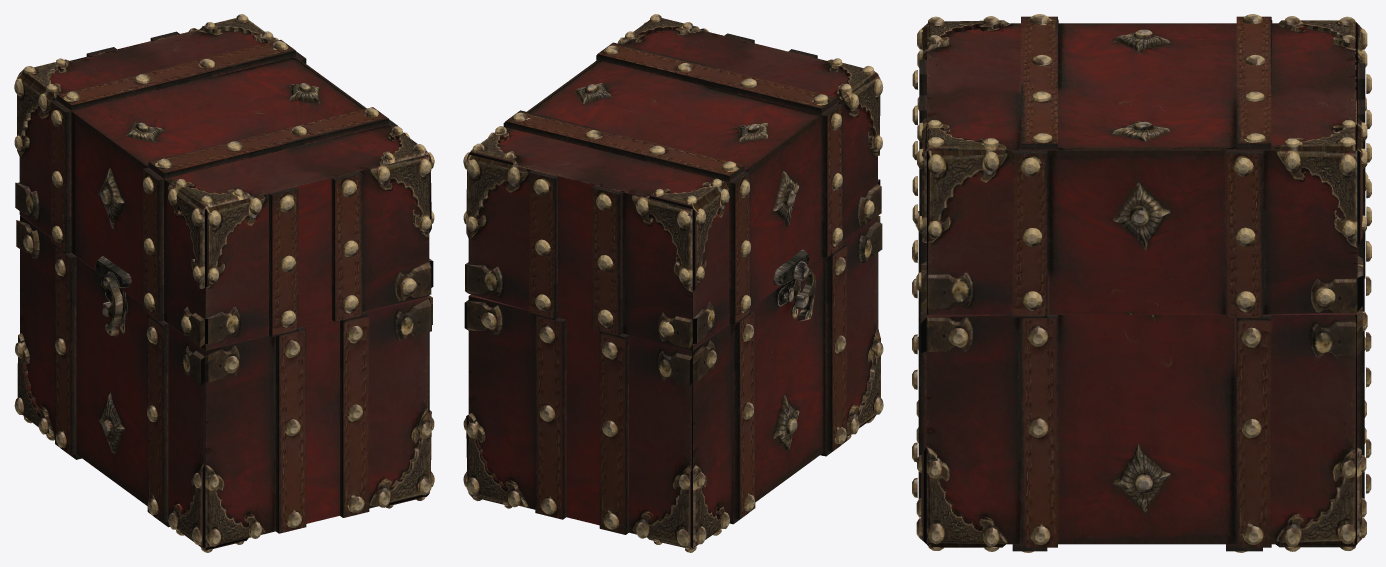
File: chest.glb
The picture shows the model from 3 angles, left to right: view 1: azimuth 30°, elevation 25°; view 2: azimuth 150°, elevation 25°; view 3: azimuth 270°, elevation 25°; orthographic projection. The views are drawn at different scales.
Visible parts, largest first — view 1: top, bottom, poignet; view 2: top, bottom, poignet; view 3: top, bottom.
Boxes of the visible parts, x1=… form: top: x1=14, y1=14, x2=434, y2=350; bottom: x1=14, y1=215, x2=434, y2=552; poignet: x1=95, y1=256, x2=131, y2=336; top: x1=463, y1=14, x2=883, y2=350; bottom: x1=463, y1=215, x2=883, y2=552; poignet: x1=773, y1=249, x2=815, y2=321; top: x1=912, y1=14, x2=1371, y2=317; bottom: x1=912, y1=211, x2=1371, y2=552.
Size of the model in its own units: 0.7111 by 0.9868 by 0.982.
1 material, 1 textured.
